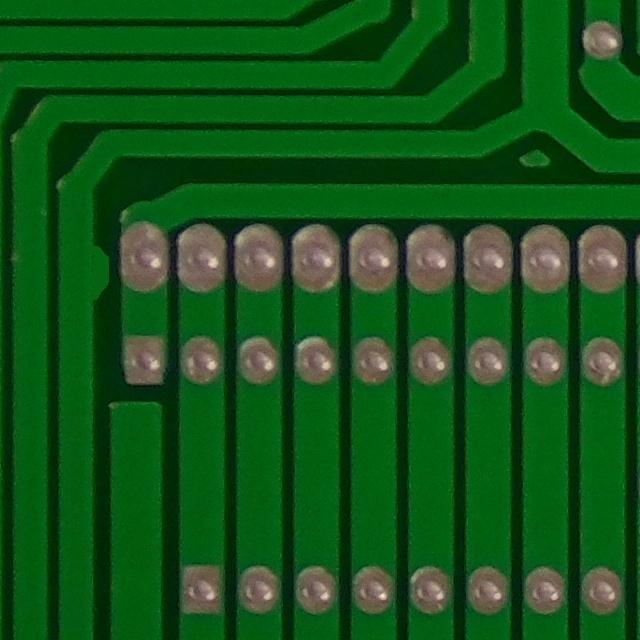spur: (68, 224, 124, 311)
